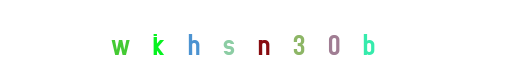0: (287, 0, 367, 80)
3: (227, 0, 307, 80)
B: (328, 0, 408, 80)
H: (174, 0, 254, 80)
K: (153, 0, 233, 80)
N: (223, 0, 303, 80)
S: (215, 0, 295, 80)
W: (97, 0, 177, 80)
